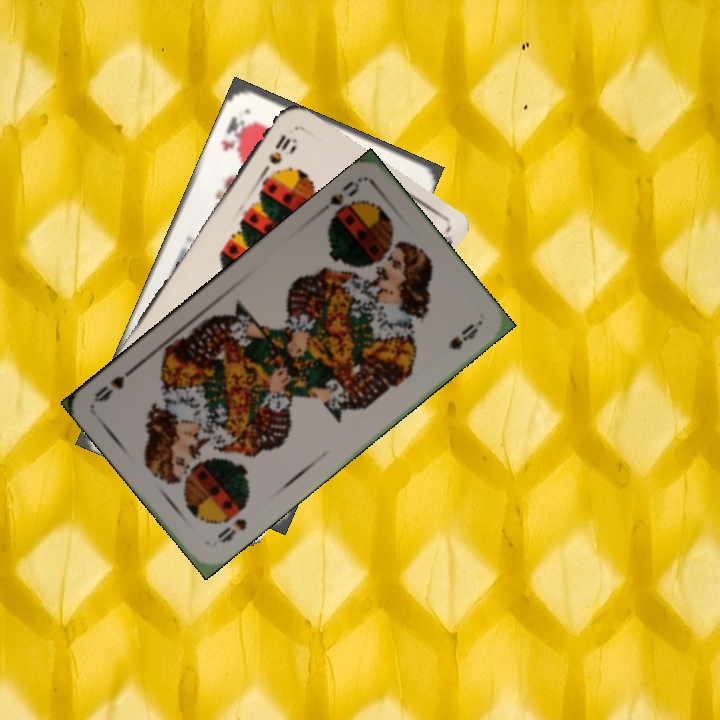HK: (216, 112, 251, 154)
S10: (257, 130, 298, 179)
SO: (313, 175, 363, 227), (213, 514, 250, 546)
